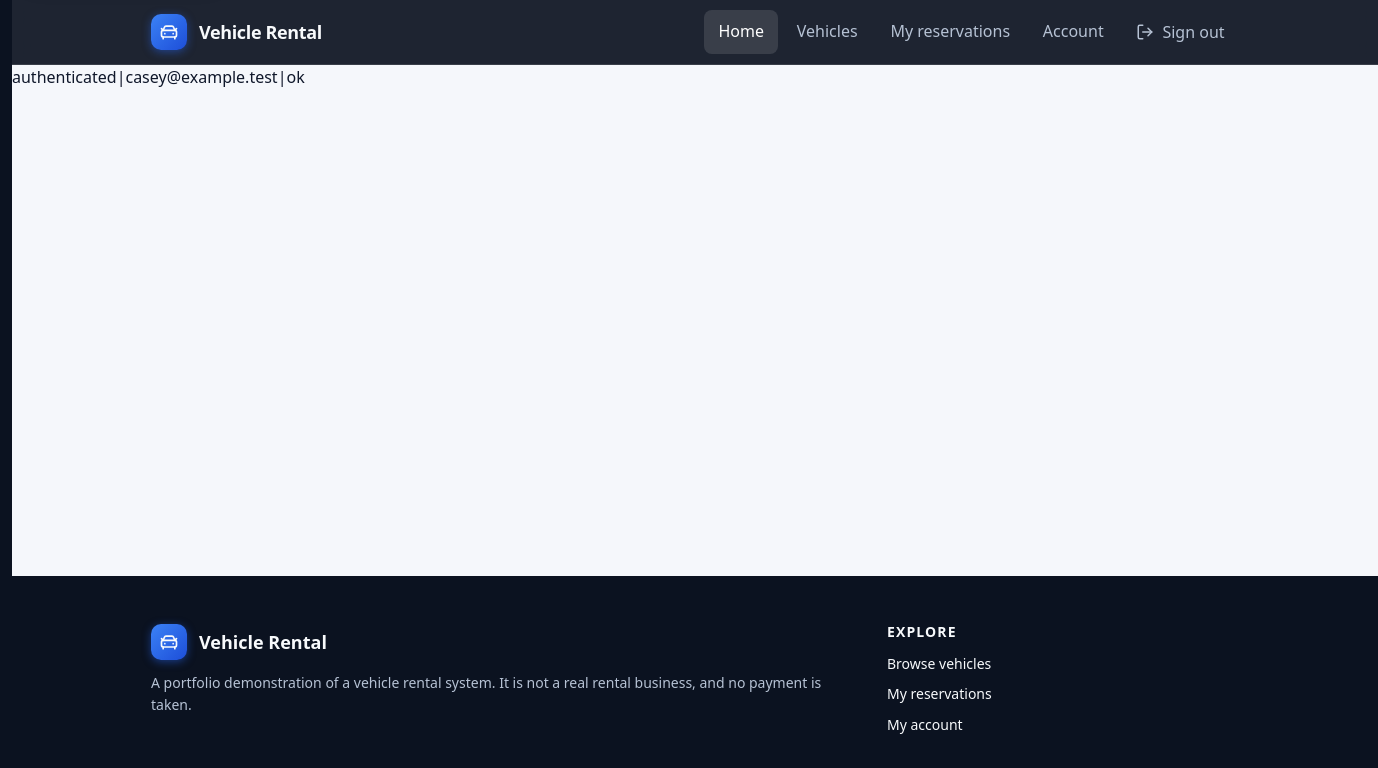
session handling › stays signed in, and says so, if the server could not be told to end the session
Click the button "Sign out": (1181, 32) [1122,10,1239,54]
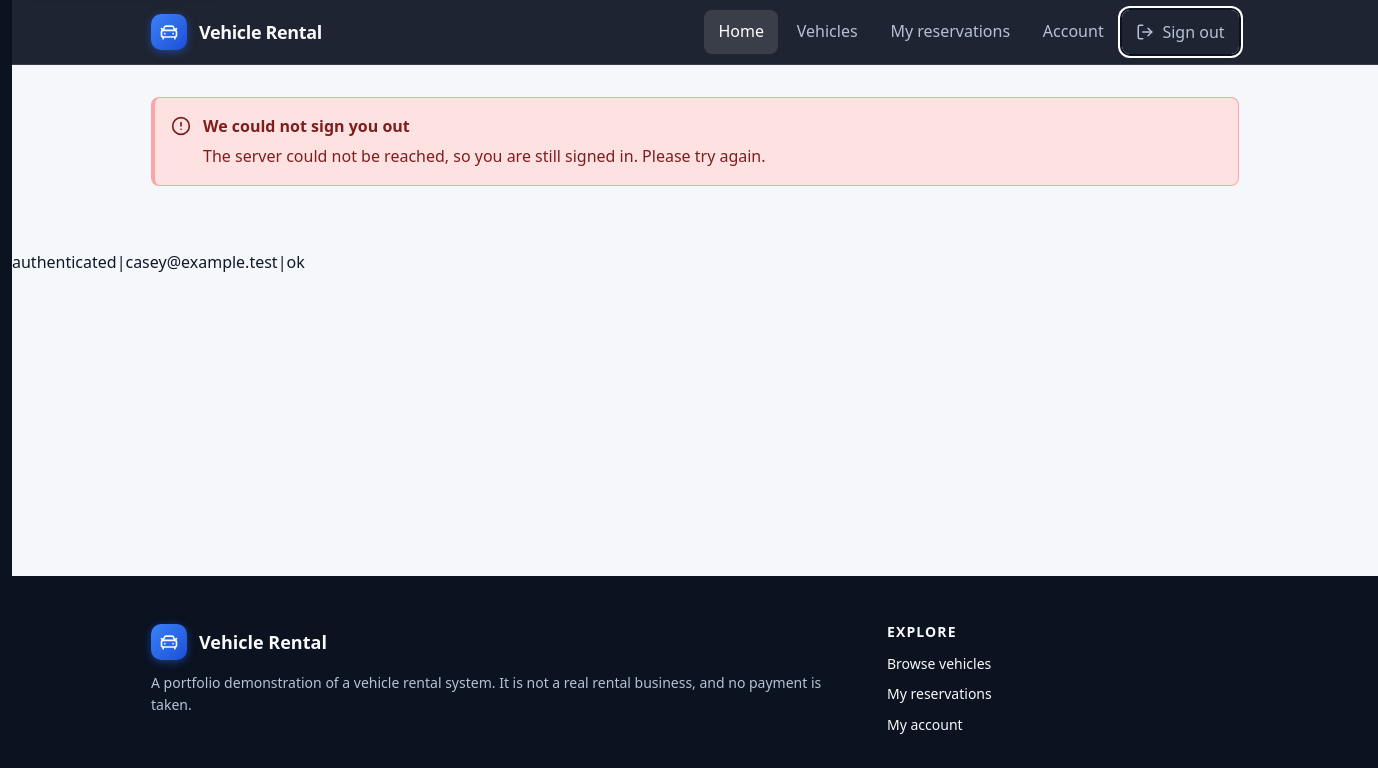
Check: the text with test id "status" reads "authenticated|casey@example.test|ok", box [12,251,305,273]
Check: the text "We could not sign you out" is shown, box [203,115,410,137]
